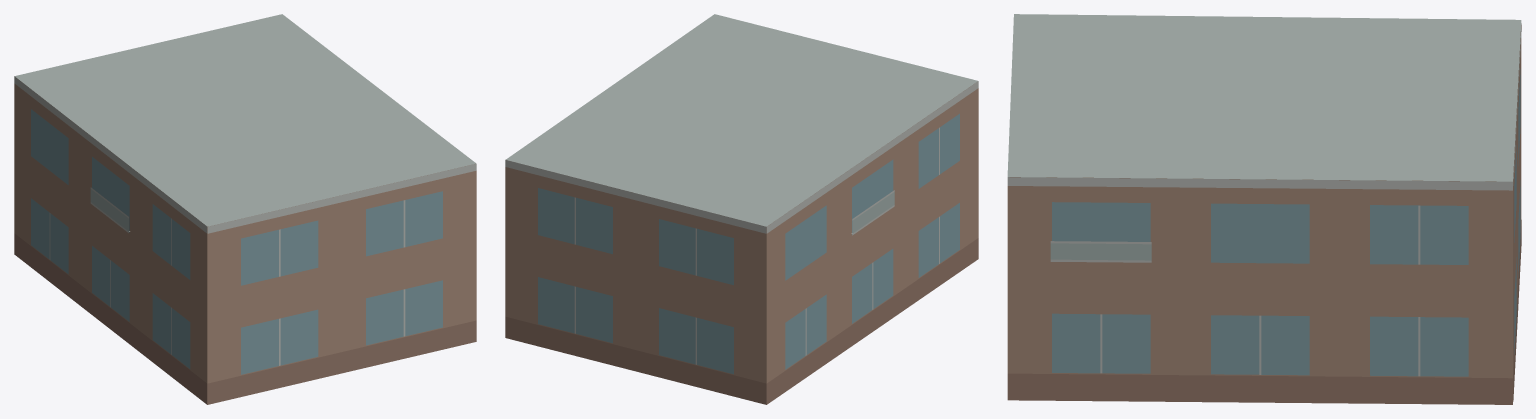
File: survey-upis-32983949.glb
3 renders of one model, left to right at view 1: azimuth 30°, elevation 25°; view 2: azimuth 150°, elevation 25°; view 3: azimuth 270°, elevation 25°, orthographic. The views are drawn at different scales.
Parts seen in each view (by area): view 1: survey-upis-32983949.tmp; view 2: survey-upis-32983949.tmp; view 3: survey-upis-32983949.tmp.
Boxes of the visible parts, bbox=[...] form: survey-upis-32983949.tmp: bbox=[14, 14, 476, 404]; survey-upis-32983949.tmp: bbox=[505, 14, 978, 404]; survey-upis-32983949.tmp: bbox=[1007, 14, 1521, 404].
Size of the model in its own units: 9.83 by 6.1 by 12.74.
